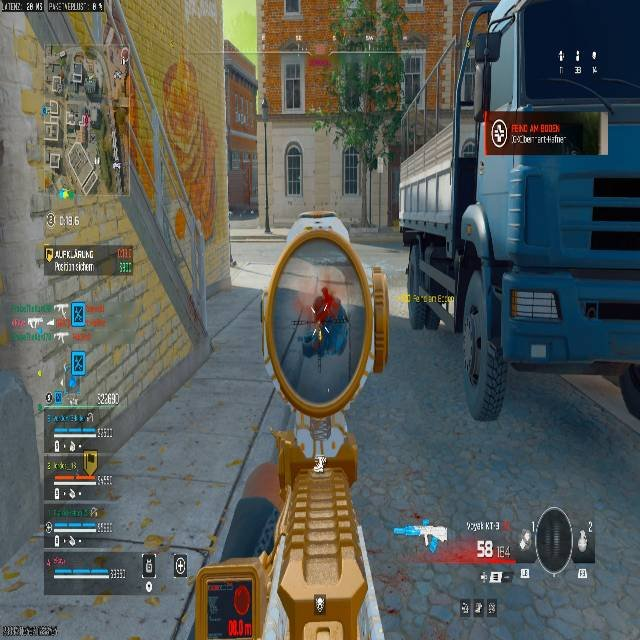player: (301, 286, 346, 357), (312, 285, 341, 337)
